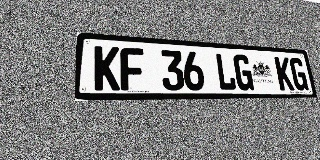3: (161, 50, 184, 91)
6: (182, 51, 205, 91)
F: (120, 47, 145, 91)
G: (233, 54, 254, 90), (289, 58, 309, 90)
K: (94, 46, 120, 91), (274, 57, 295, 90)
L: (215, 53, 237, 91)
